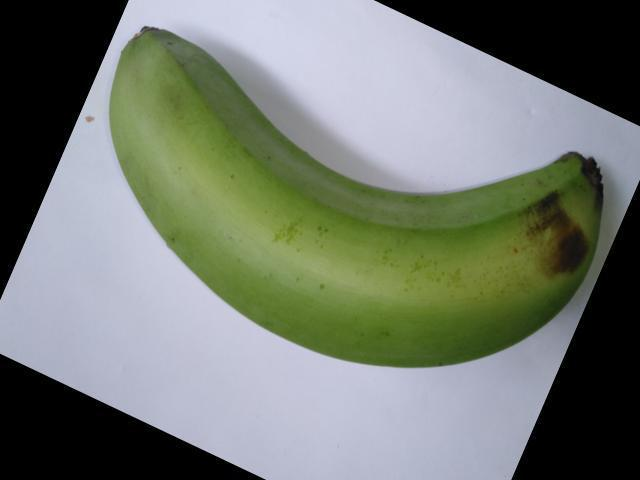freshunripe: (108, 25, 629, 383)
